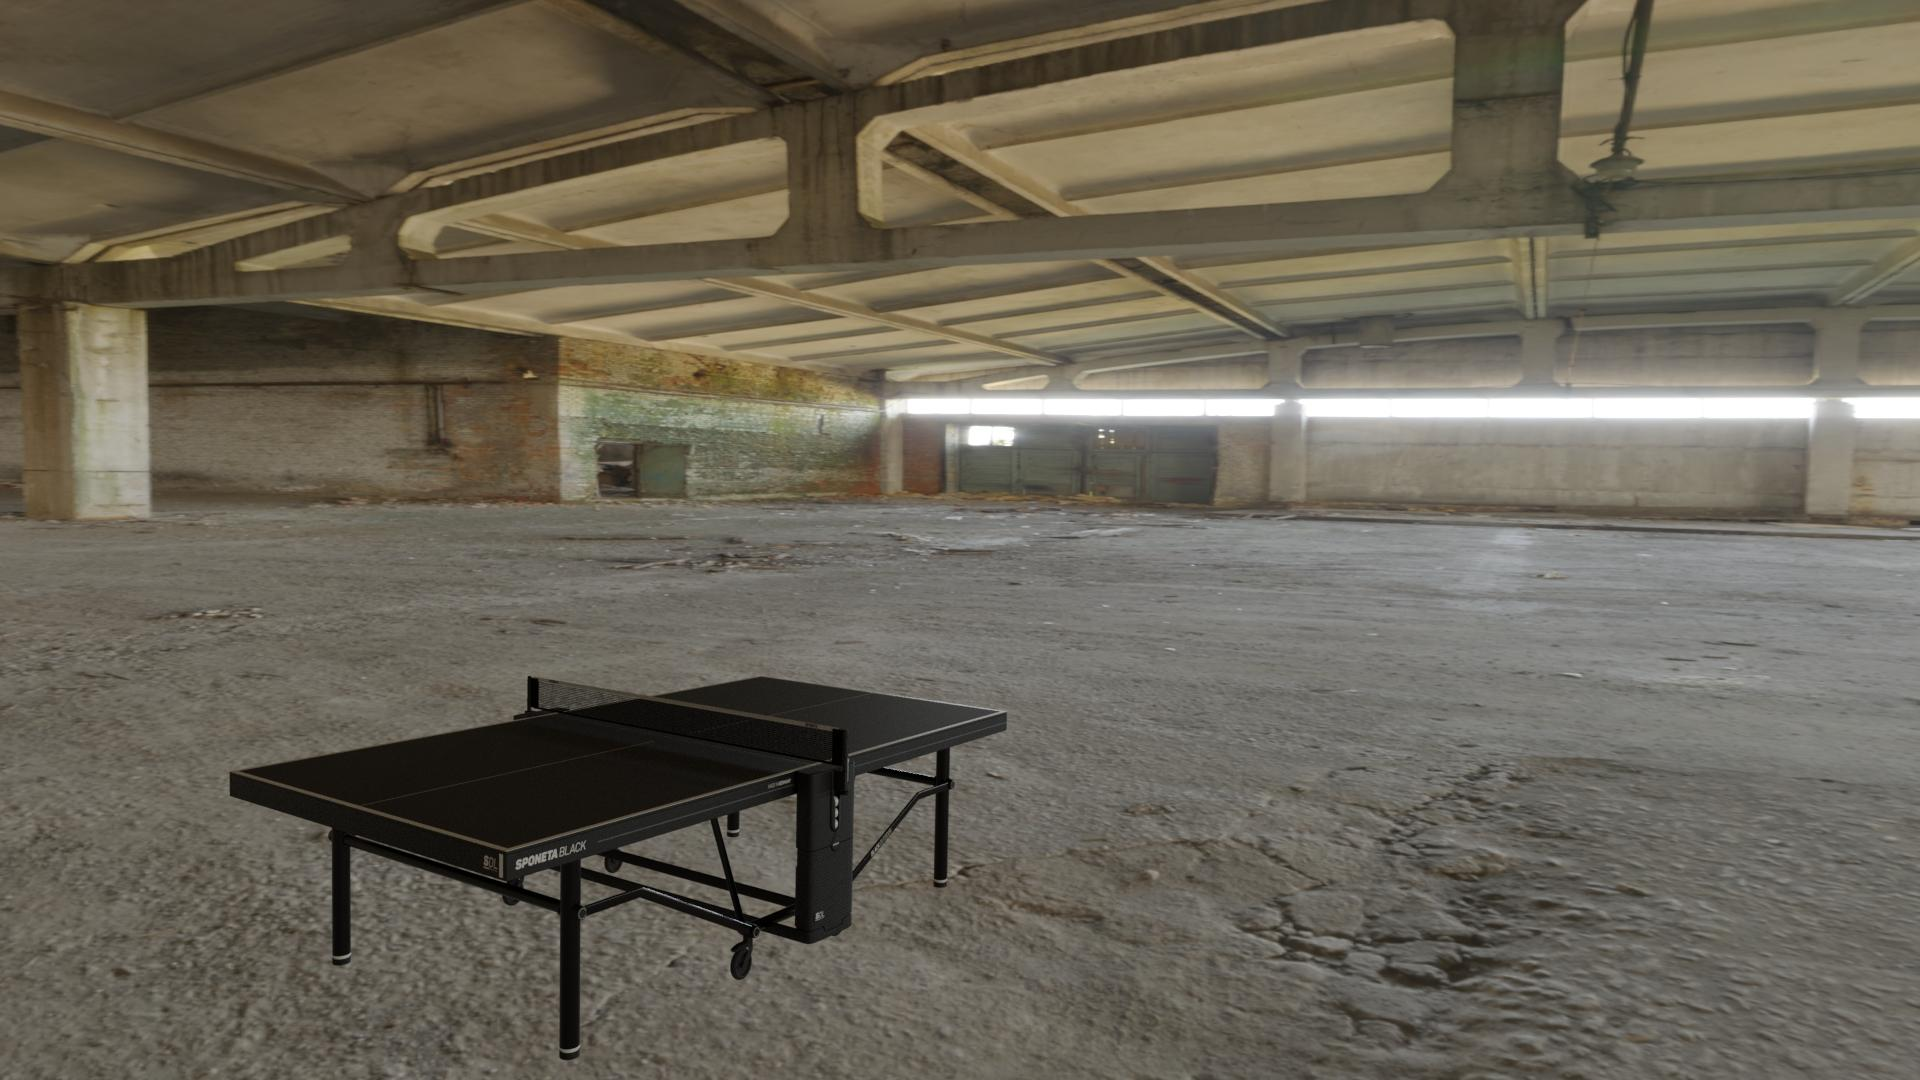table: (239, 676, 1001, 848)
